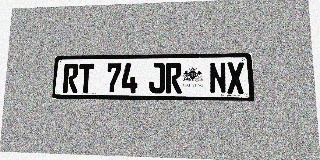4: (121, 63, 138, 93)
7: (105, 63, 122, 93)
J: (149, 63, 165, 93)
N: (209, 62, 227, 94)
R: (165, 63, 182, 93), (63, 64, 79, 93)
T: (78, 63, 94, 93)
X: (226, 62, 245, 94)
